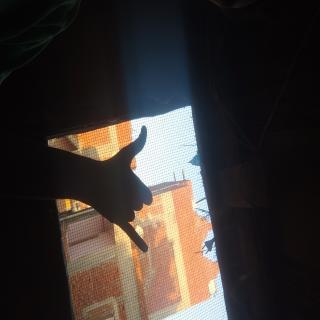YA: (91, 218, 192, 303)
